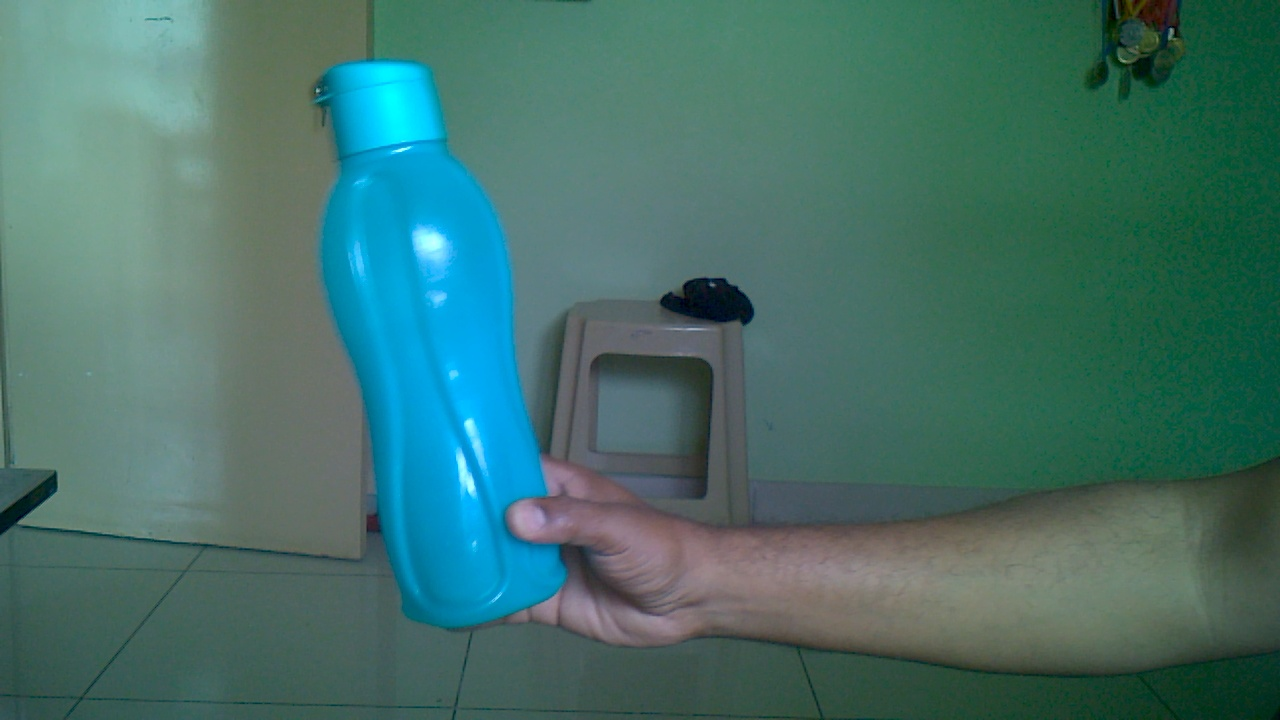waterbottle: (266, 48, 607, 653)
